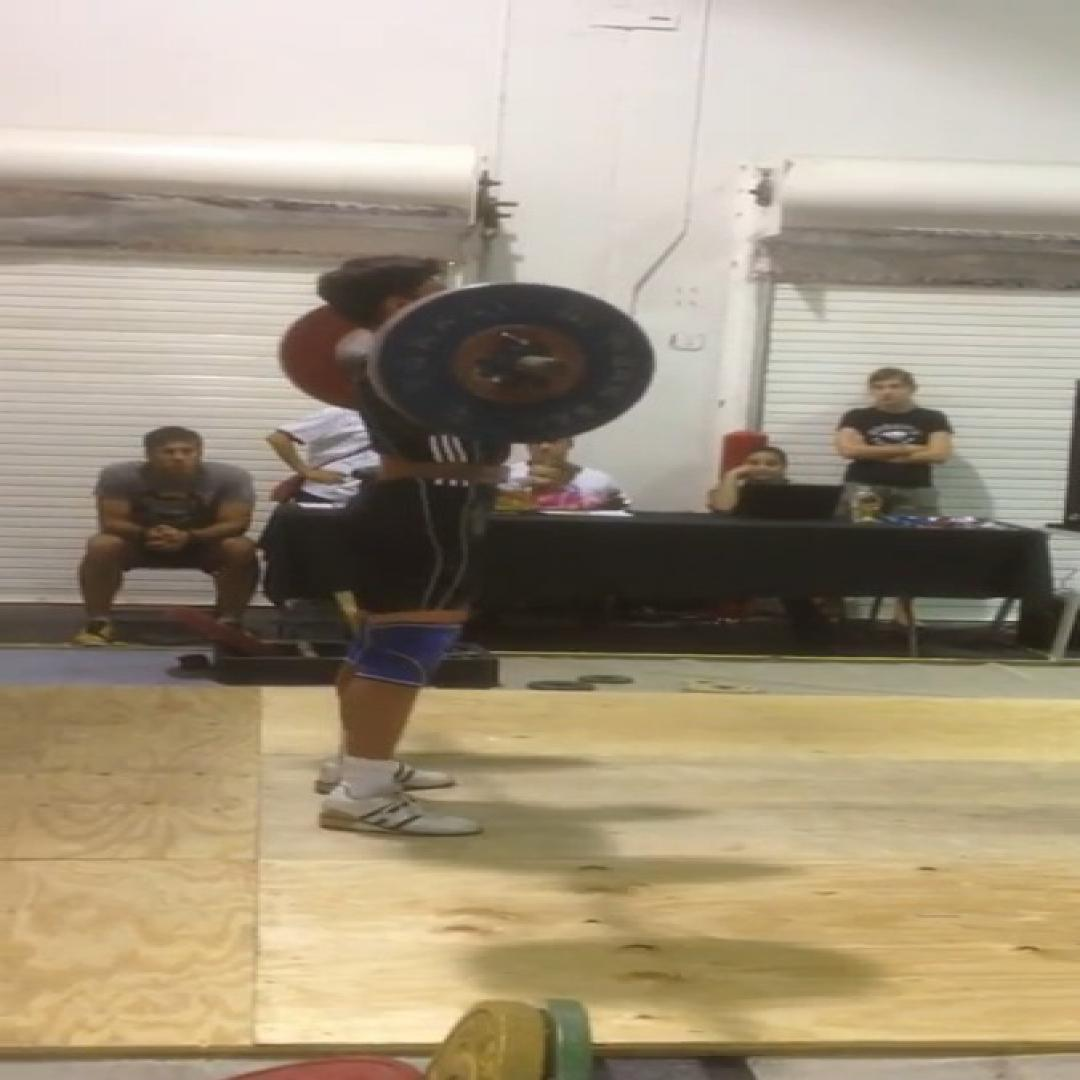Bar: (537, 358, 567, 378)
Barbell: (375, 284, 654, 443)
